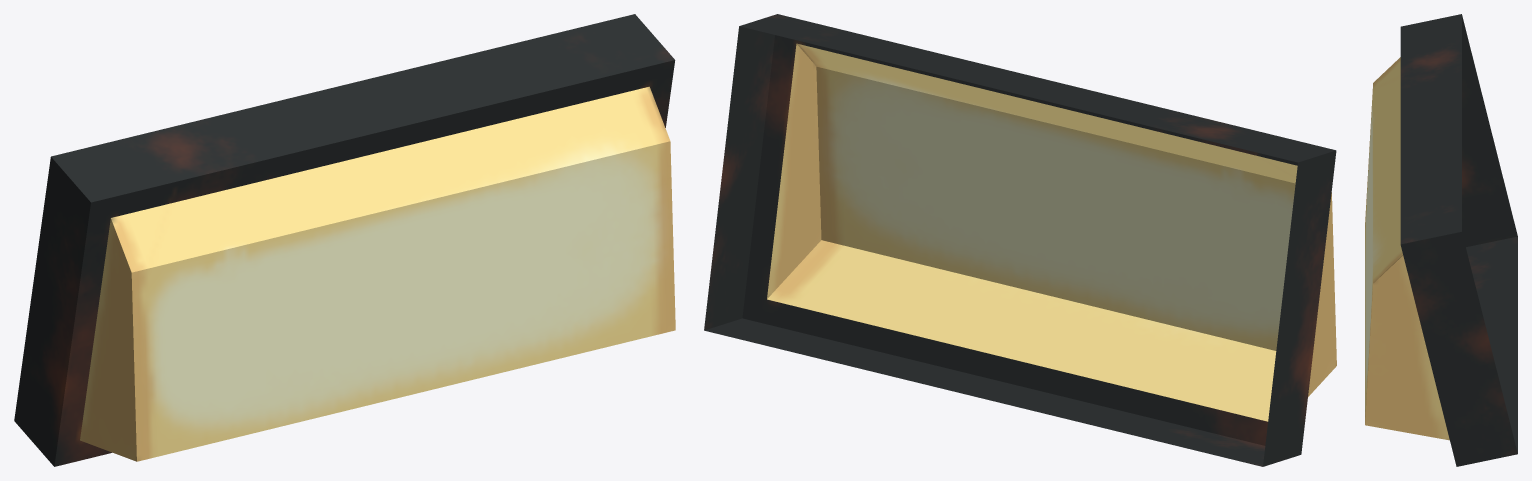
File: Deco_light01.fbx
3 renders of one model, left to right at view 1: azimuth 30°, elevation 25°; view 2: azimuth 150°, elevation 25°; view 3: azimuth 270°, elevation 25°, orthographic. The views are drawn at different scales.
Visible parts, largest first — view 1: light001; view 2: light001; view 3: light001.
Part boxes in pixels (x1,y1,x2,y2): light001: (14,14,675,466); light001: (704,14,1336,466); light001: (1365,14,1517,466).
Size of the model in its own units: 2.76 by 1.39 by 0.8193.
